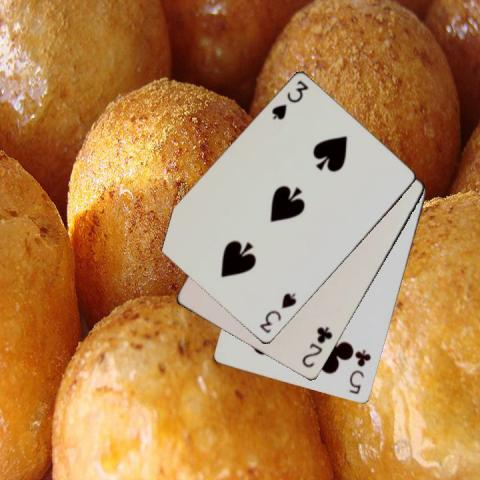2c: (299, 324, 334, 370)
3s: (257, 290, 298, 335), (269, 78, 310, 122)
5c: (346, 347, 373, 396)
